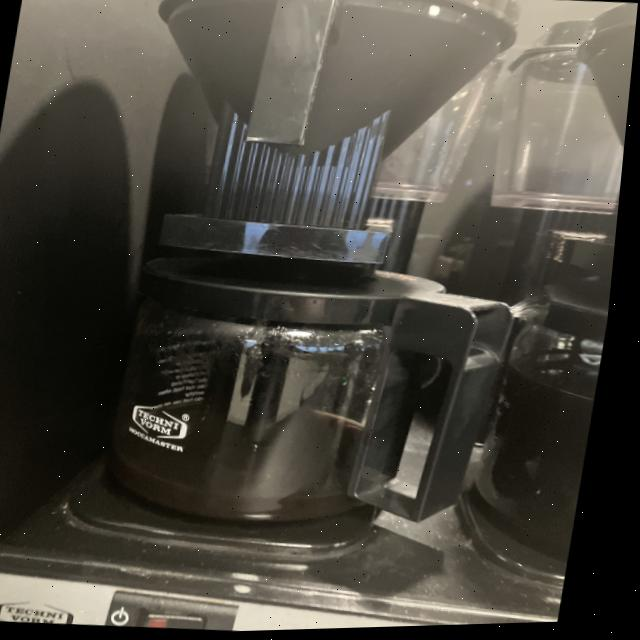coffee: (78, 226, 484, 555), (459, 272, 618, 598)
